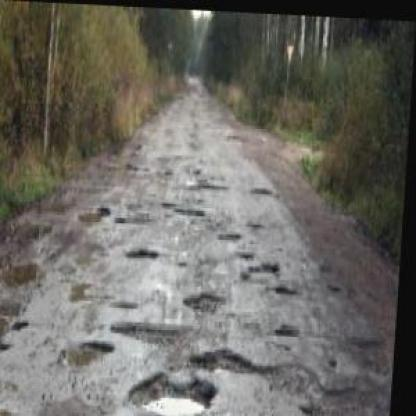pothole: (129, 364, 225, 414), (301, 374, 396, 414), (114, 317, 205, 344), (63, 334, 121, 375), (186, 290, 233, 310), (80, 203, 114, 224), (252, 257, 286, 278), (128, 245, 165, 261), (178, 200, 210, 216), (279, 319, 305, 338), (275, 280, 302, 297)
